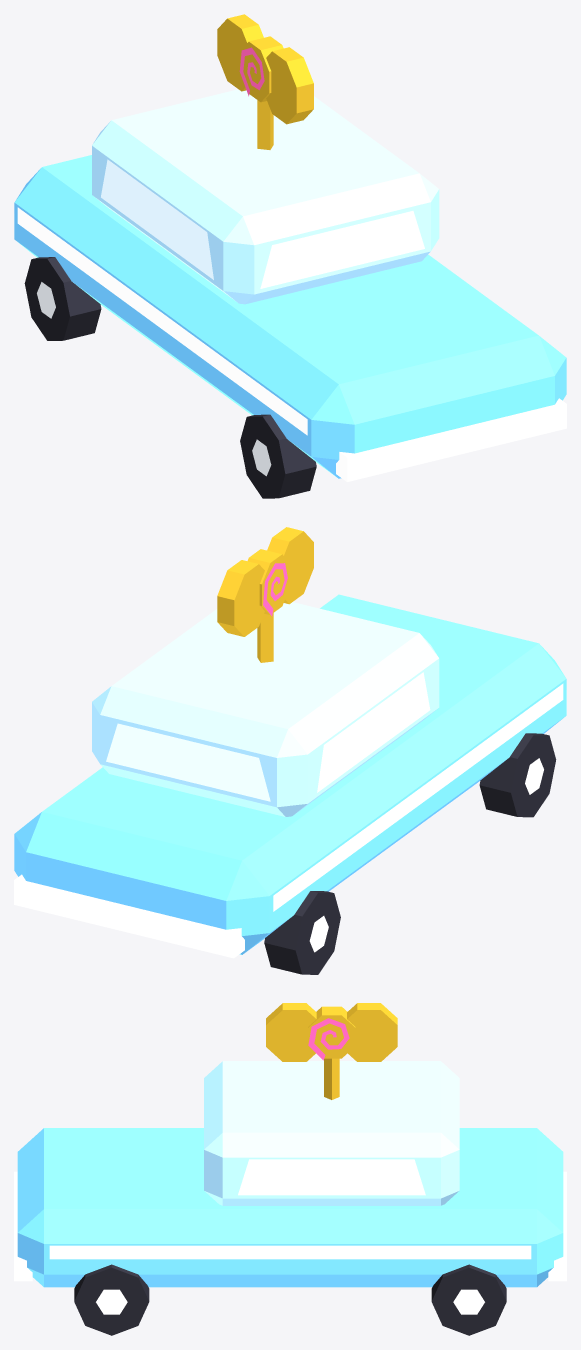
Rendered from windup-car-back.glb.
3 renders of one model, top to bottom at view 1: azimuth 30°, elevation 25°; view 2: azimuth 150°, elevation 25°; view 3: azimuth 270°, elevation 25°, orthographic. The views are drawn at different scales.
Parts seen in each view (by area): view 1: windup-car-back; view 2: windup-car-back; view 3: windup-car-back.
Part boxes in pixels (left/top/right/bottom): windup-car-back: left=14, top=14, right=566, bottom=498; windup-car-back: left=14, top=527, right=566, bottom=974; windup-car-back: left=14, top=1003, right=566, bottom=1335.
Bounding box in the file's own units: 1.39 × 1.61 × 2.94.
